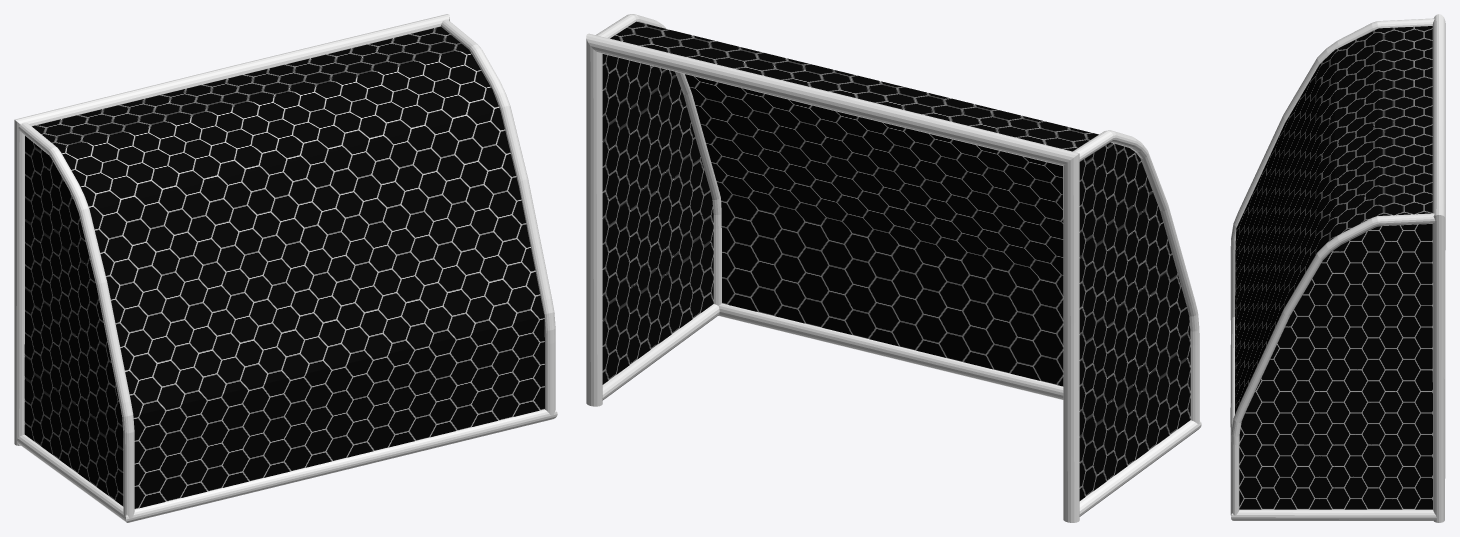
The model's file is FUS0210008.fbx.
The picture shows the model from 3 angles, left to right: view 1: azimuth 30°, elevation 25°; view 2: azimuth 150°, elevation 25°; view 3: azimuth 270°, elevation 25°; orthographic projection. The views are drawn at different scales.
Visible parts, largest first — view 1: smFUS0210008; view 2: smFUS0210008; view 3: smFUS0210008.
Boxes of the visible parts, bbox=[...] form: smFUS0210008: bbox=[14, 14, 557, 522]; smFUS0210008: bbox=[586, 14, 1201, 522]; smFUS0210008: bbox=[1230, 14, 1445, 522].
Bounding box in the file's own units: 621 × 445 × 281.
Materials: 1 (1 with a texture image).
